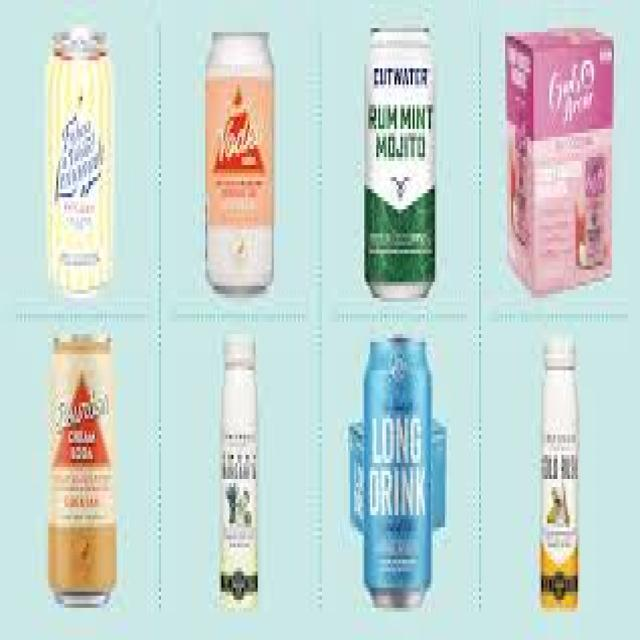Cans: (358, 12, 443, 306), (354, 326, 439, 612), (44, 322, 125, 616), (38, 20, 123, 298), (201, 16, 280, 306)
